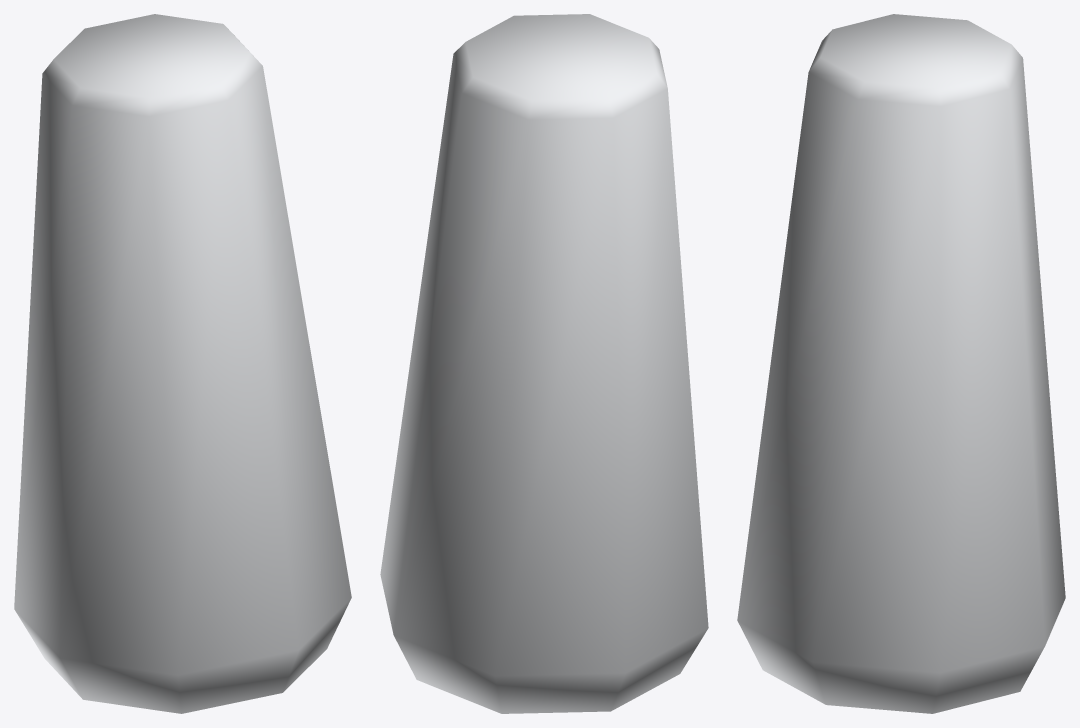
The model's file is cutensil_grind_pestle.glb.
3 renders of one model, left to right at view 1: azimuth 30°, elevation 25°; view 2: azimuth 150°, elevation 25°; view 3: azimuth 270°, elevation 25°, orthographic.
Visible parts, largest first — view 1: cutensil grind pestle; view 2: cutensil grind pestle; view 3: cutensil grind pestle.
Boxes of the visible parts, box(x1,y1,x2,y2) form: cutensil grind pestle: box(14, 14, 351, 713); cutensil grind pestle: box(380, 14, 708, 713); cutensil grind pestle: box(737, 14, 1065, 713).
Size of the model in its own units: 0.8755 by 1.79 by 0.8759.
Materials: 1 (1 with a texture image).
